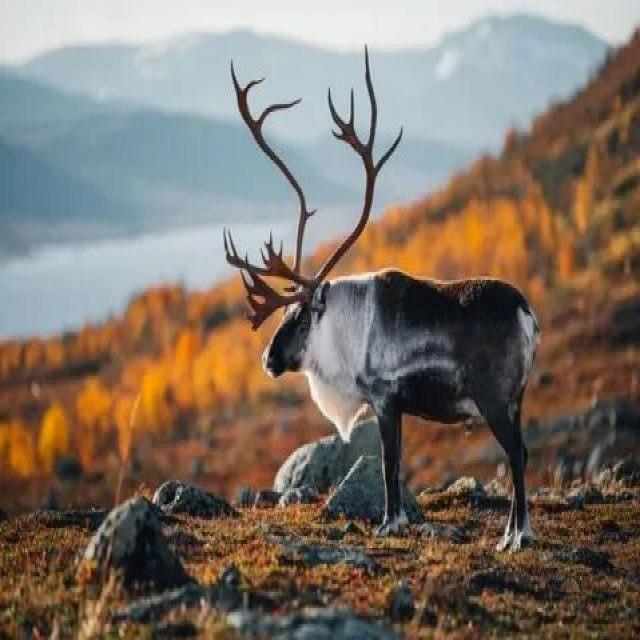deer: (223, 106, 555, 554)
